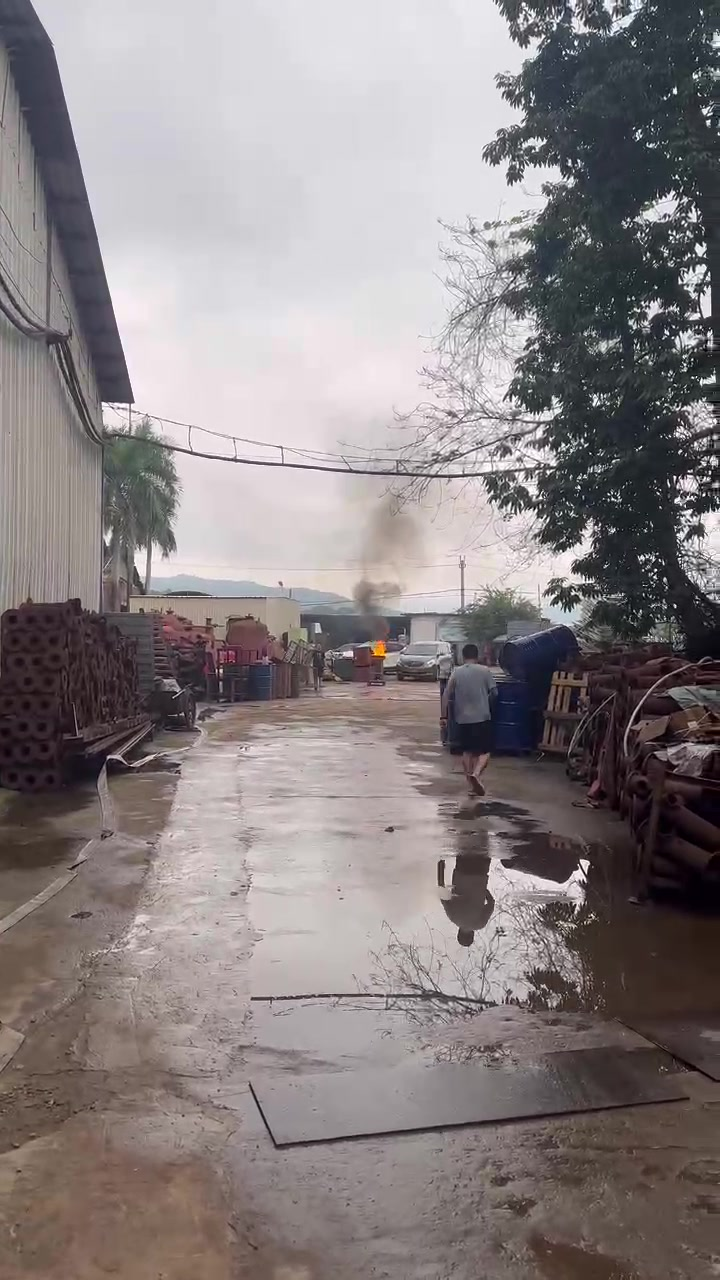fire: (372, 640, 385, 656)
